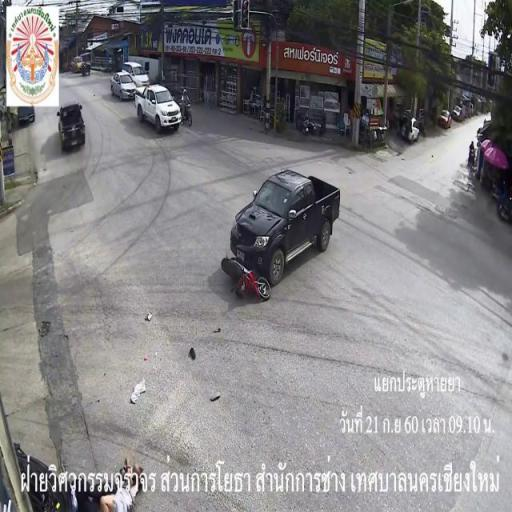Car: (226, 172, 341, 292), (137, 84, 181, 130), (56, 104, 88, 151), (110, 69, 134, 102), (122, 62, 150, 86)
Minor Accident: (212, 168, 342, 312)
Motor: (218, 246, 273, 305)
Not Accident: (110, 60, 196, 136), (133, 82, 195, 135), (435, 105, 465, 130)
